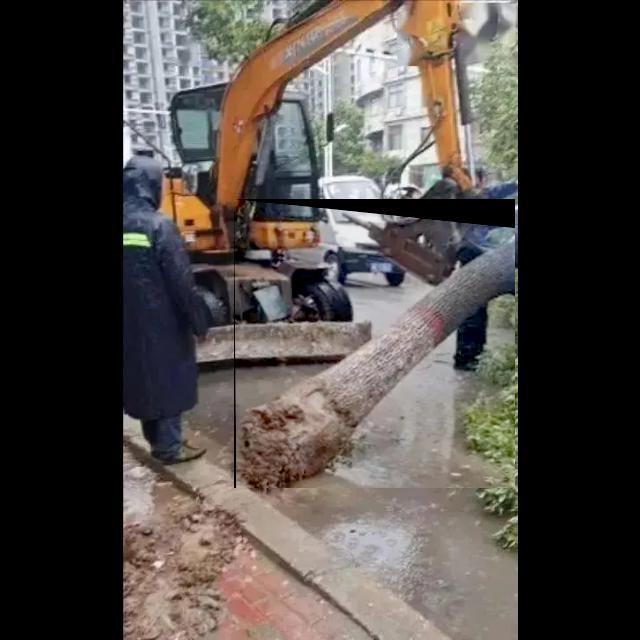fallen_tree: (234, 199, 516, 489)
